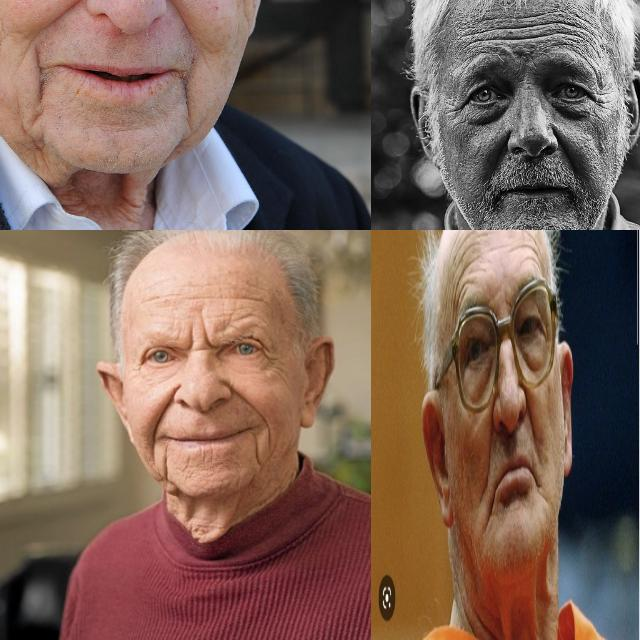chin: (180, 452, 194, 472)
crows_feet: (260, 342, 284, 374), (444, 96, 470, 114), (588, 90, 608, 112), (132, 352, 146, 372)
forehead: (552, 12, 582, 46), (466, 28, 504, 52), (514, 19, 546, 45), (515, 236, 540, 266), (451, 267, 466, 315), (140, 288, 174, 308), (461, 232, 480, 267), (234, 291, 268, 305), (230, 308, 264, 322)
frown_line: (200, 322, 218, 353), (186, 324, 197, 354)
gummy_smile: (32, 0, 87, 25), (228, 383, 260, 415), (152, 392, 174, 434), (166, 0, 194, 31), (484, 414, 494, 489), (486, 138, 506, 172), (556, 136, 576, 166), (260, 418, 276, 449), (526, 401, 536, 443), (147, 438, 159, 467)
sad_smile: (28, 51, 54, 105), (172, 76, 195, 120), (157, 448, 176, 482), (247, 432, 263, 468), (486, 493, 496, 532), (533, 473, 544, 499)
